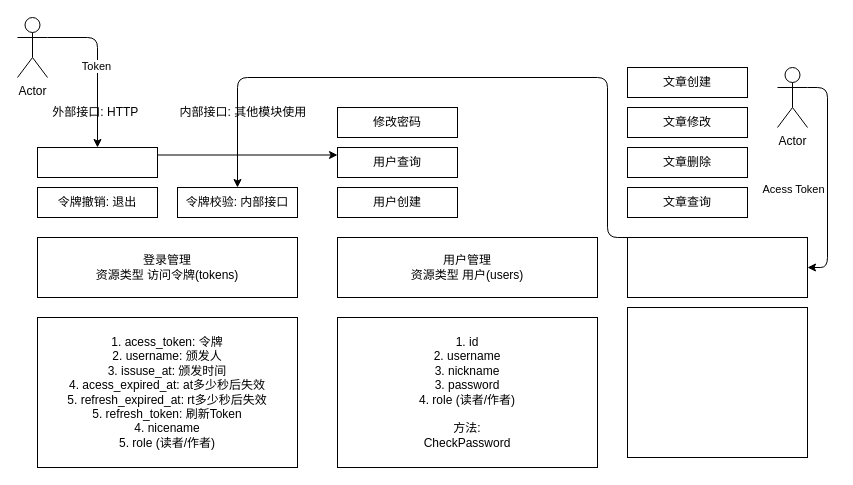
Some shapes in this 853 by 485 pixel diagram are drawn without their labels. Each missing label, with the centre of its shape:
"1. id 2. 作者 3. 创建者 4. 标题 5. 发布事件 6. 概要 7. Markdown内容 方法: CheckPassword" goes at (x=717, y=382).
"令牌颁发: 登录" goes at (x=97, y=162).
"文章管理 资源类型 文章(blogs)" goes at (x=717, y=267).
